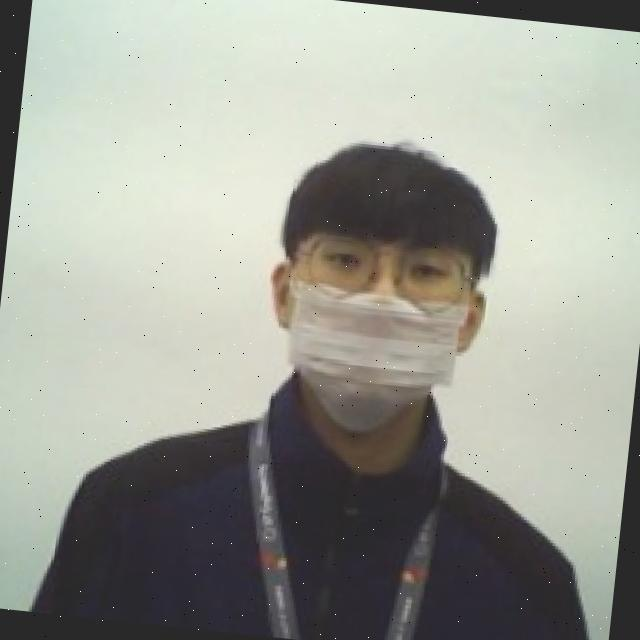mask: (265, 265, 496, 450)
no_gloves: (276, 122, 516, 274)
